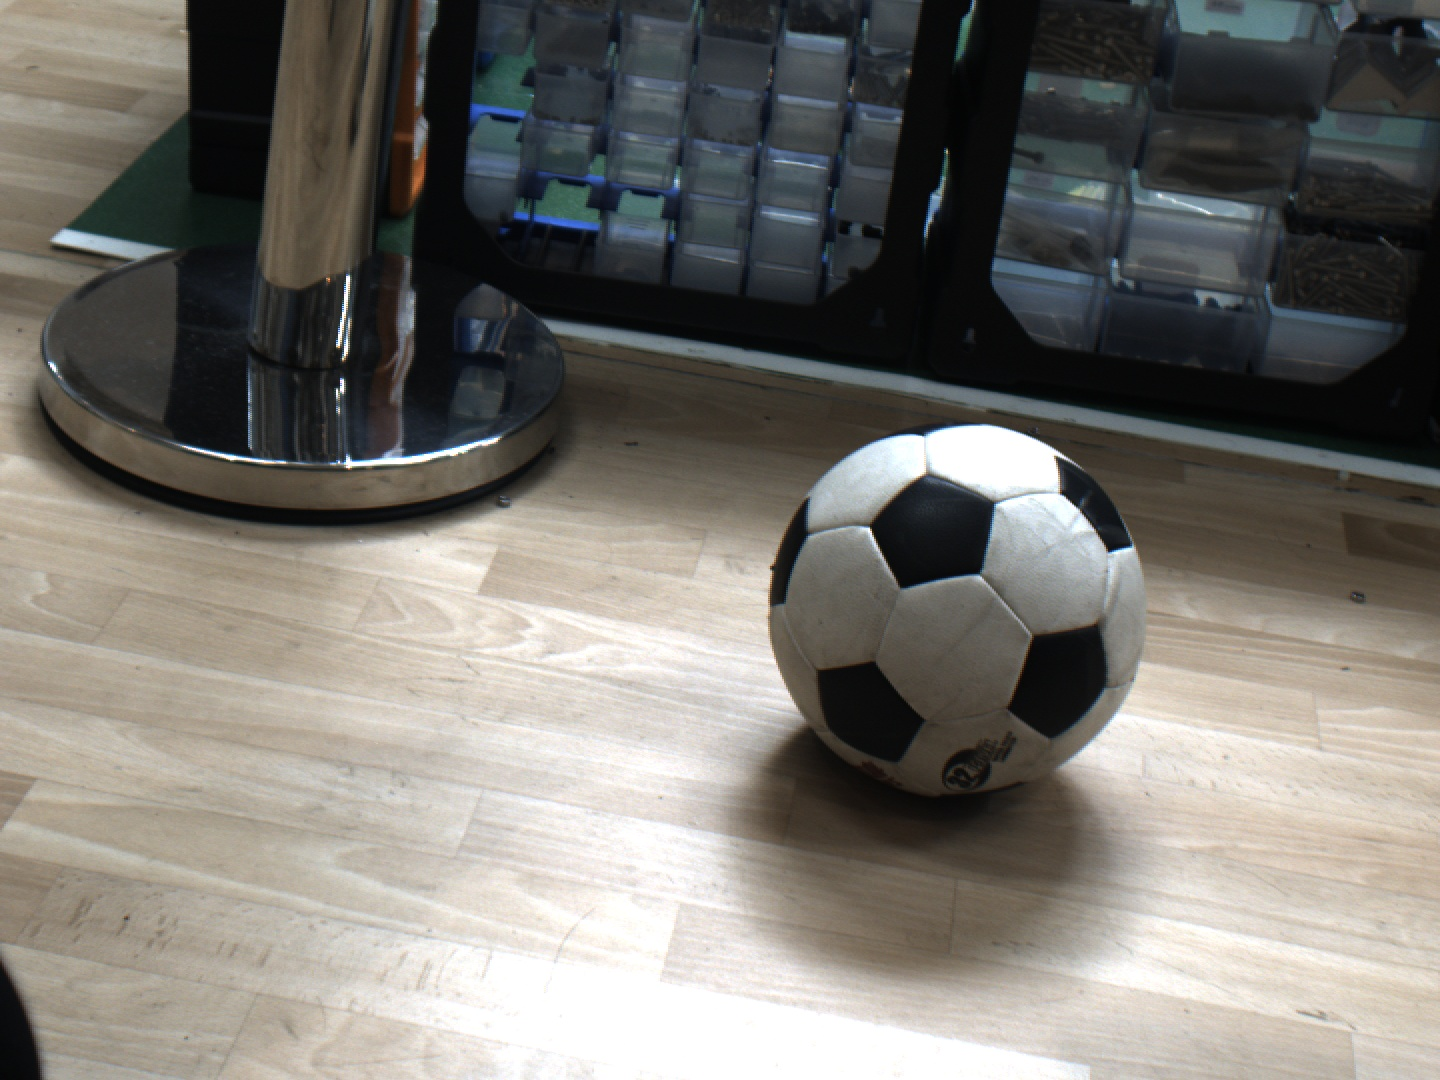ball: (732, 394, 1181, 839)
